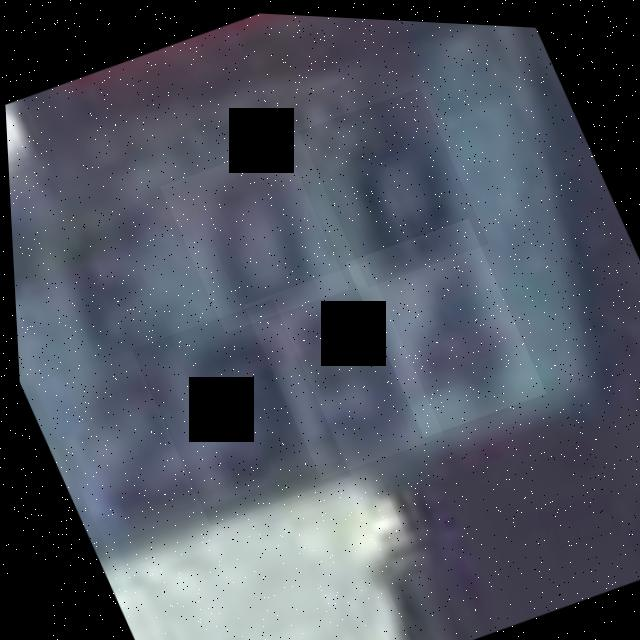2: (27, 329, 242, 563)
3: (125, 289, 349, 530)
4: (340, 208, 544, 437)
9: (237, 251, 441, 481)
D: (295, 77, 488, 288), (156, 133, 348, 336)
